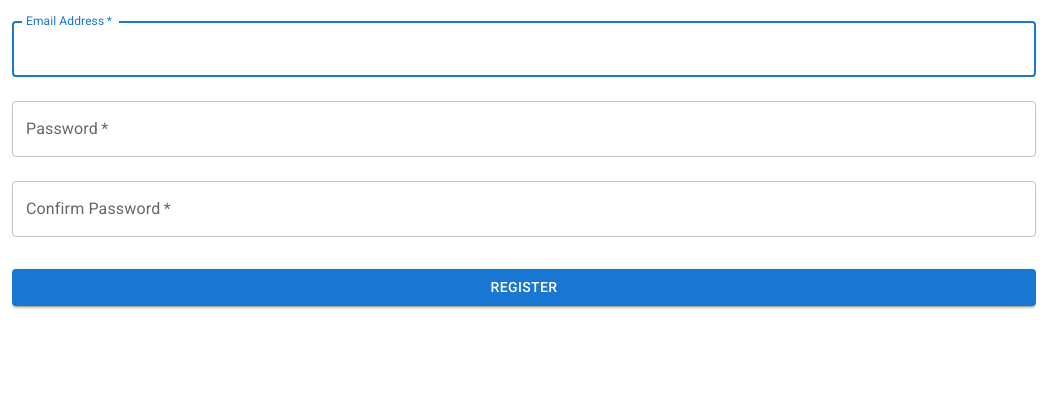
Test: RegistrationForm › should display default error message if action returns error status without a message
In the field labelled "Email Address *": (524,49) x1=12 y1=21 x2=1036 y2=77, type "test@example.com"
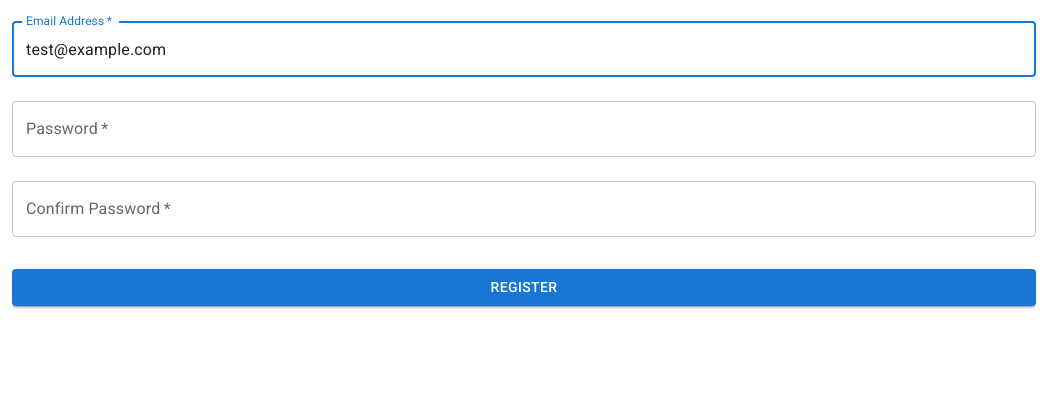
In the password field labelled "Password *": (524,129) x1=12 y1=101 x2=1036 y2=157, type "password123"
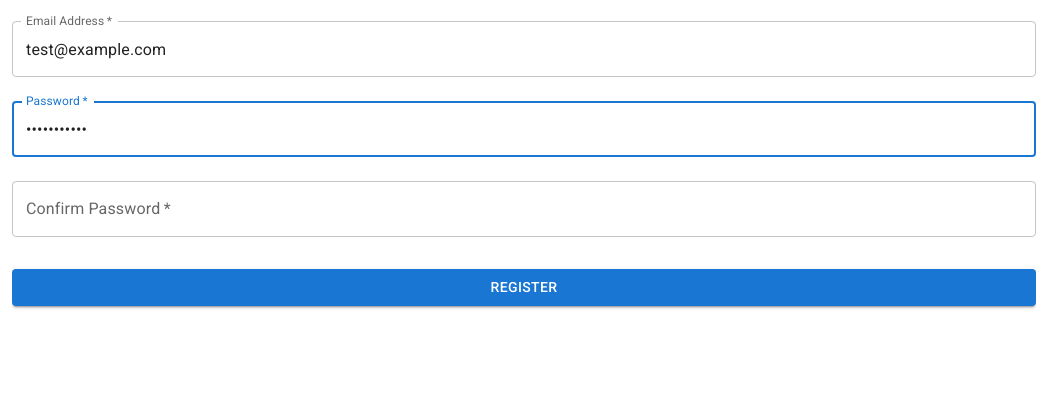
In the password field labelled "Confirm Password *": (524,209) x1=12 y1=181 x2=1036 y2=237, type "password123"
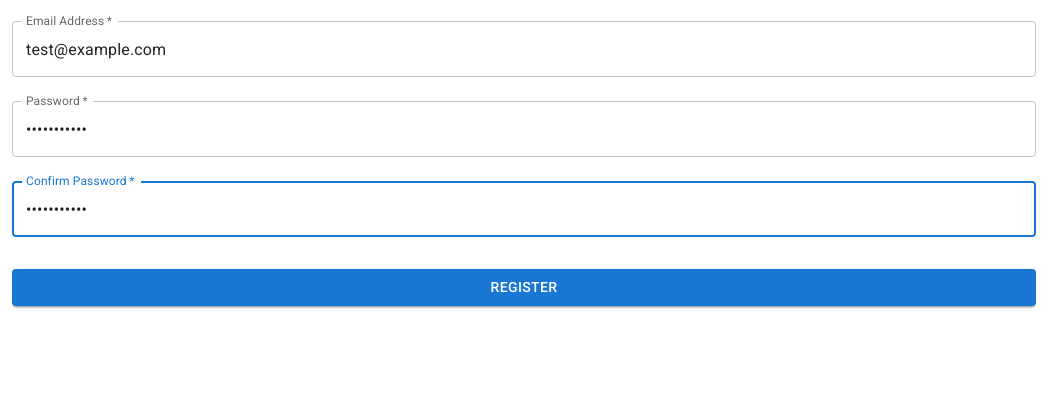
Click the button "Register": (524,287) x1=12 y1=269 x2=1036 y2=306
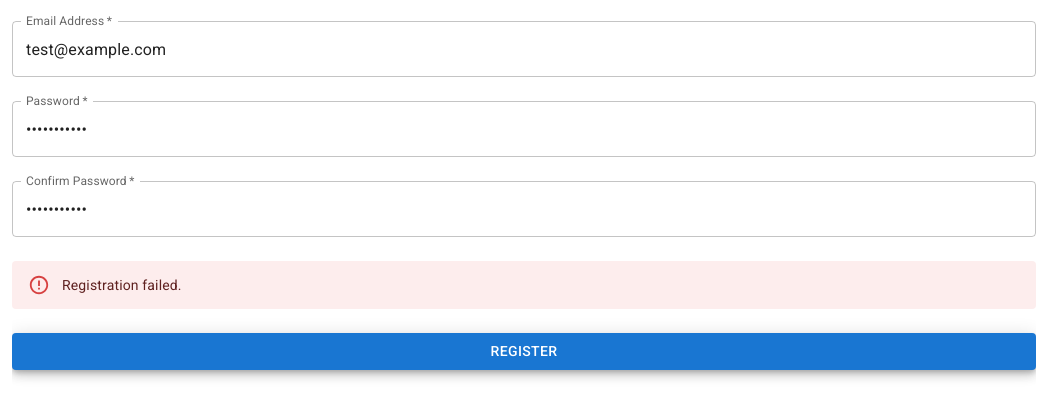
Now the message reads "Registration failed.", box x1=62 y1=277 x2=182 y2=293
